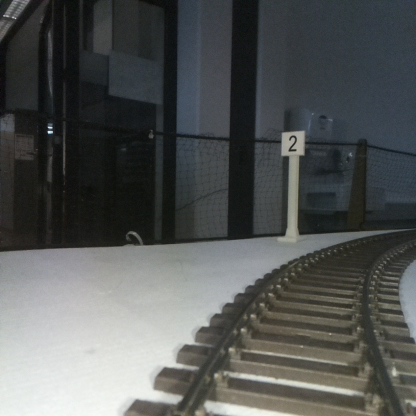white-info-2: (281, 131, 304, 240)
